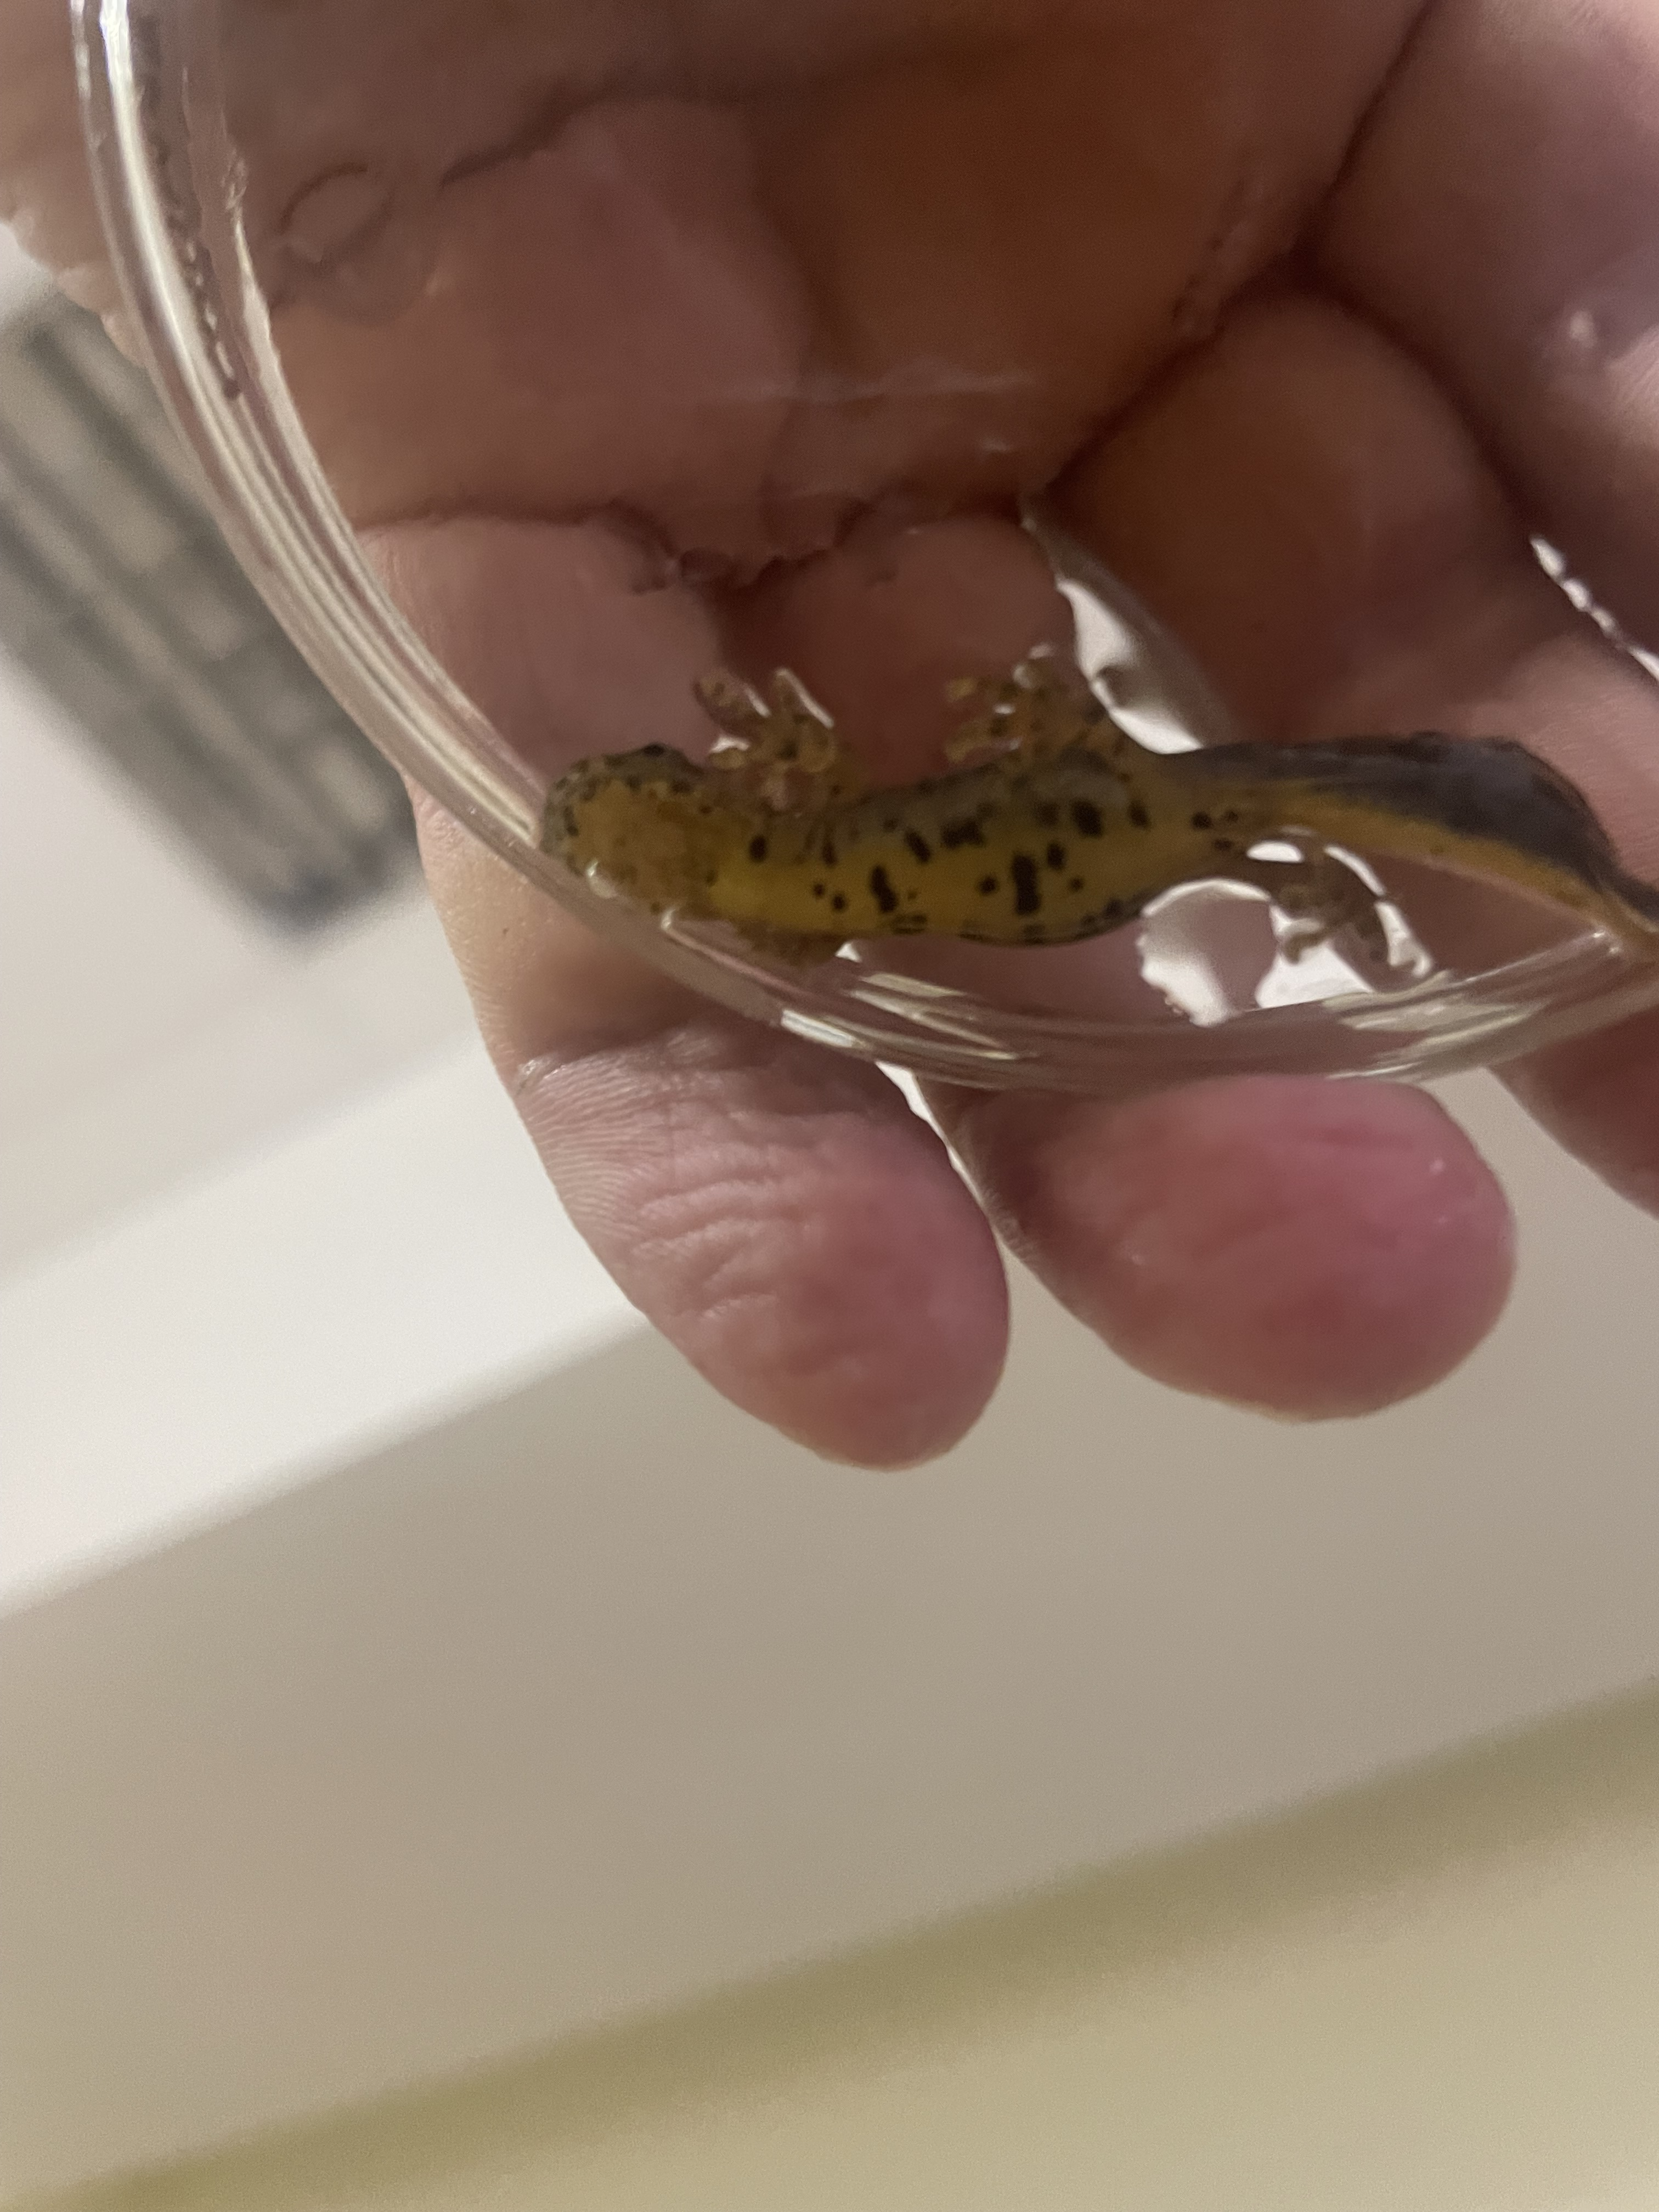Karelin_newt: (845, 751, 1178, 946)
